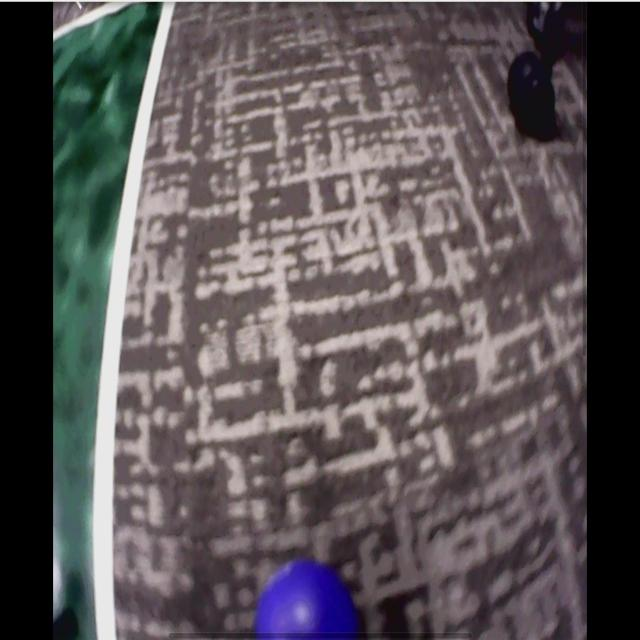ball: (252, 559, 355, 640)
